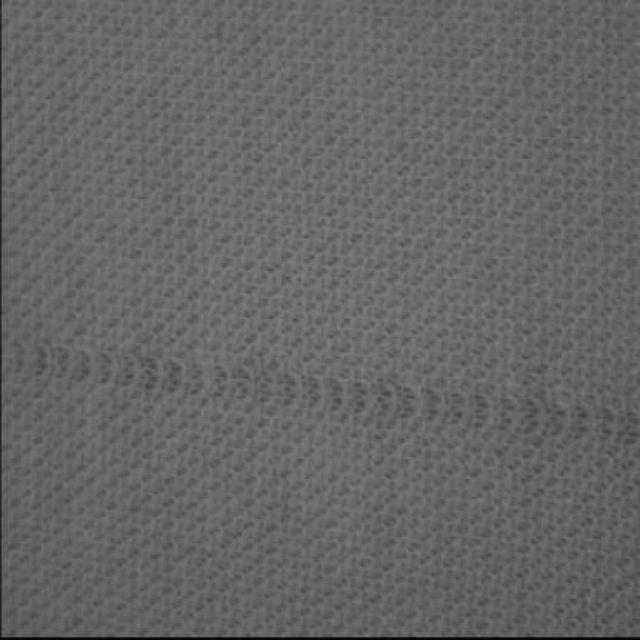Line: (9, 337, 639, 448)
